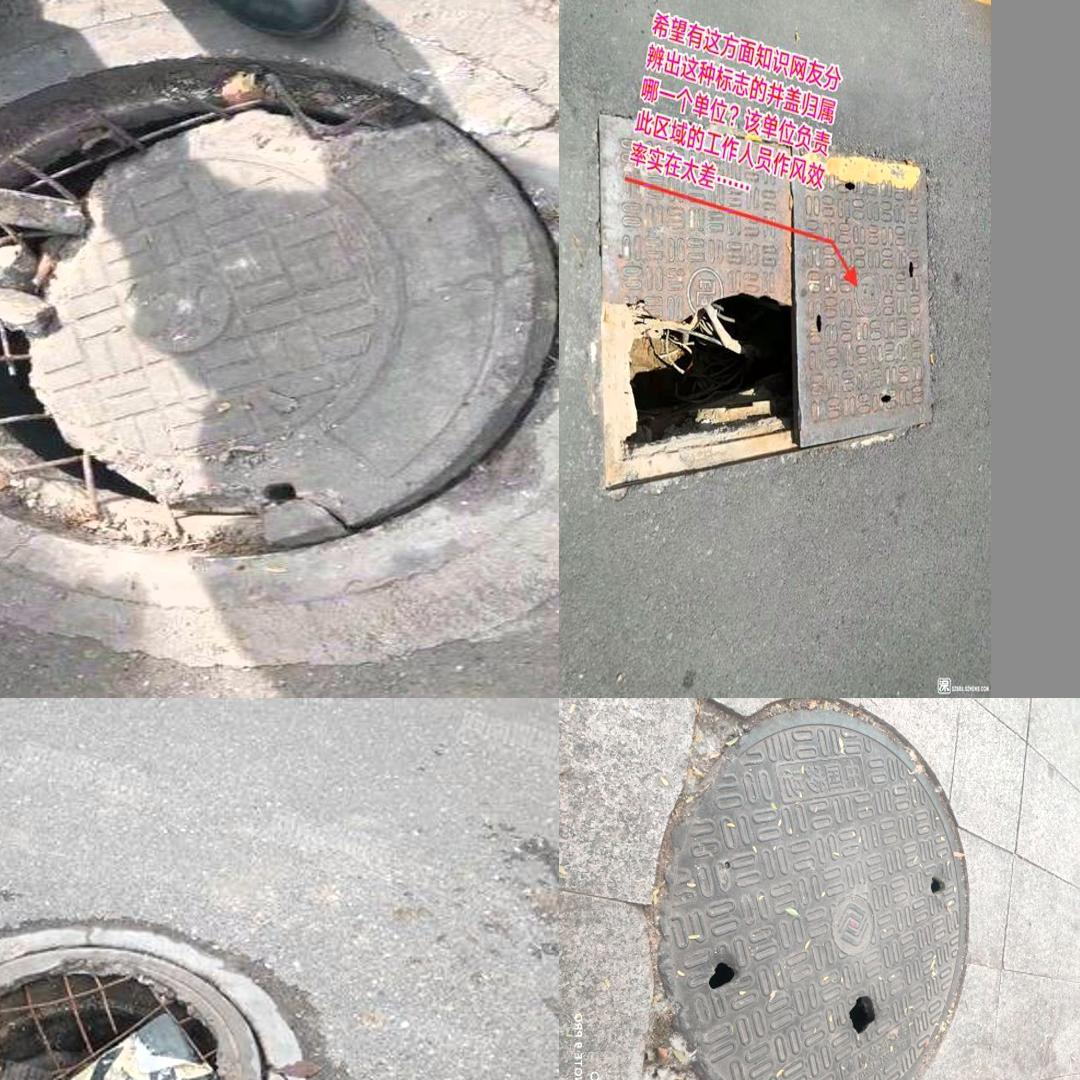broke: (0, 15, 540, 637), (576, 103, 955, 488), (657, 708, 969, 1080), (0, 903, 318, 1080)
